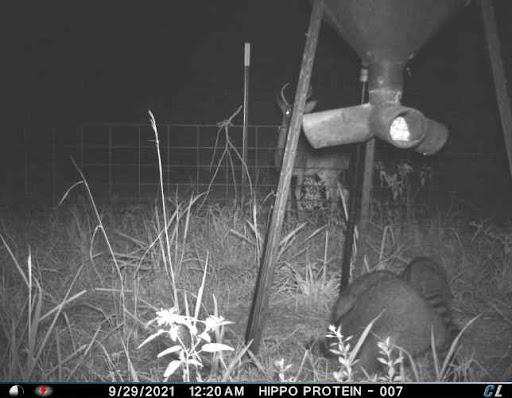Deer: (267, 76, 359, 215)
